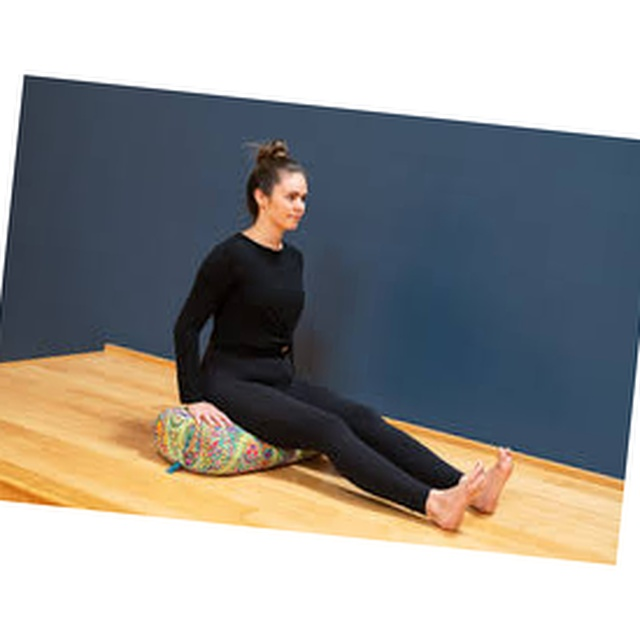Staff_Pose: (173, 135, 513, 532)
